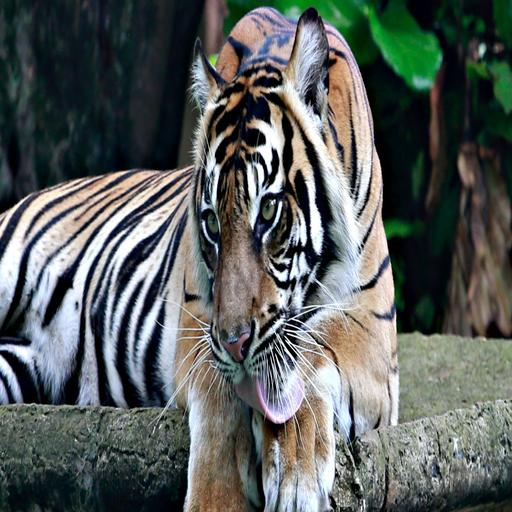Tiger: (0, 6, 412, 512)
